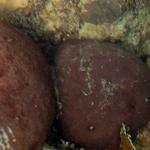alive: (1, 1, 146, 145)
